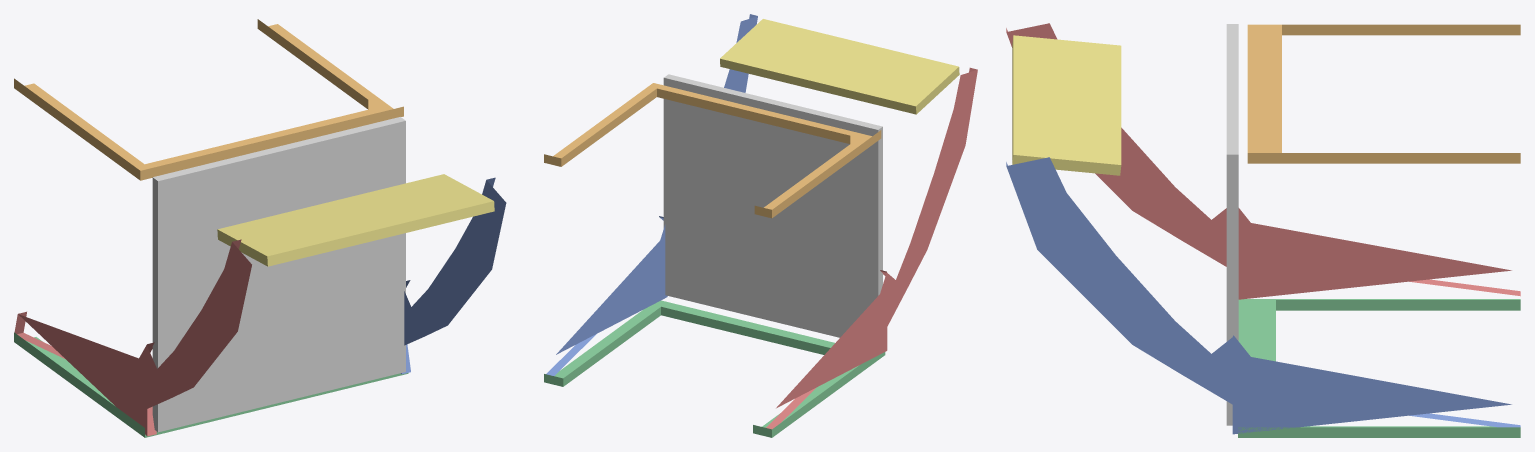
Rendered from silla_escultorica_v3_seis_piezas.glb.
The picture shows the model from 3 angles, left to right: view 1: azimuth 30°, elevation 25°; view 2: azimuth 150°, elevation 25°; view 3: azimuth 270°, elevation 25°; orthographic projection. The views are drawn at different scales.
Visible parts, largest first — view 1: Tapa Asiento E, Lateral Izq. A, Respaldo F, Escuadra Tras. D, Lateral Der. B, Escuadra Del. C; view 2: Tapa Asiento E, Respaldo F, Lateral Izq. A, Escuadra Tras. D, Escuadra Del. C, Lateral Der. B; view 3: Lateral Der. B, Lateral Izq. A, Respaldo F, Escuadra Tras. D, Escuadra Del. C, Tapa Asiento E.
Part boxes in pixels (bbox=[...]): Tapa Asiento E: bbox=[152, 117, 405, 432]; Lateral Izq. A: bbox=[14, 239, 251, 436]; Respaldo F: bbox=[217, 174, 494, 266]; Escuadra Tras. D: bbox=[14, 19, 403, 180]; Lateral Der. B: bbox=[401, 177, 506, 374]; Escuadra Del. C: bbox=[14, 332, 408, 437]; Tapa Asiento E: bbox=[663, 74, 882, 337]; Respaldo F: bbox=[720, 19, 959, 114]; Lateral Izq. A: bbox=[766, 67, 977, 429]; Escuadra Tras. D: bbox=[544, 83, 881, 218]; Escuadra Del. C: bbox=[544, 300, 885, 437]; Lateral Der. B: bbox=[546, 14, 757, 375]; Lateral Der. B: bbox=[1006, 157, 1520, 434]; Lateral Izq. A: bbox=[1006, 23, 1520, 299]; Respaldo F: bbox=[1012, 35, 1121, 175]; Escuadra Tras. D: bbox=[1247, 24, 1520, 163]; Escuadra Del. C: bbox=[1238, 299, 1520, 437]; Tapa Asiento E: bbox=[1226, 24, 1238, 425].
Bounding box in the file's own units: 500 × 478 × 782.
